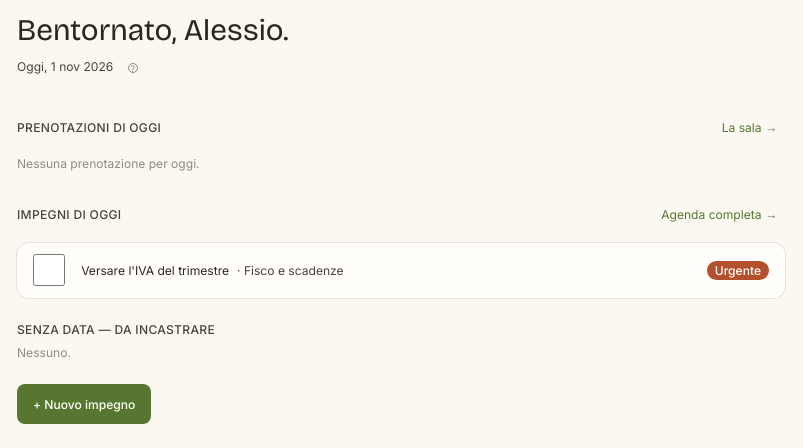
Test case: 🔴 un impegno ricorrente spuntato dalla Dashboard › ⚠️ doppio tocco: la casella sparisce al primo tocco, prima della risposta, e parte una richiesta sola
Step 1. Click the checkbox named "Segna fatto: Versare l'IVA del trimestre" → [49, 270], box x1=33 y1=254 x2=65 y2=286
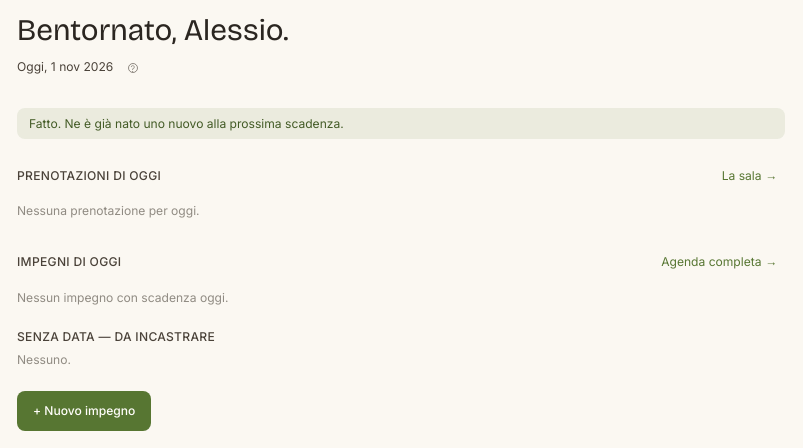
Check: the text "Fatto. Ne è già nato uno nuovo alla prossima scadenza." is shown once, box x1=17 y1=108 x2=785 y2=139
